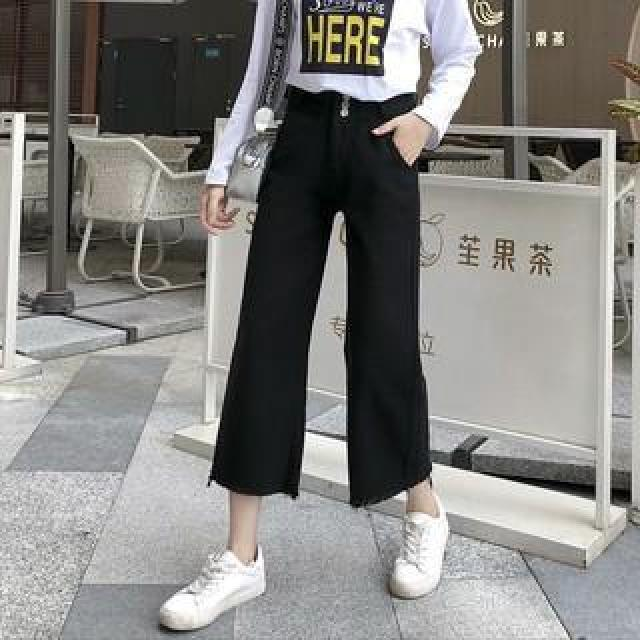pants: (208, 88, 450, 506)
sweater: (185, 1, 495, 189)
